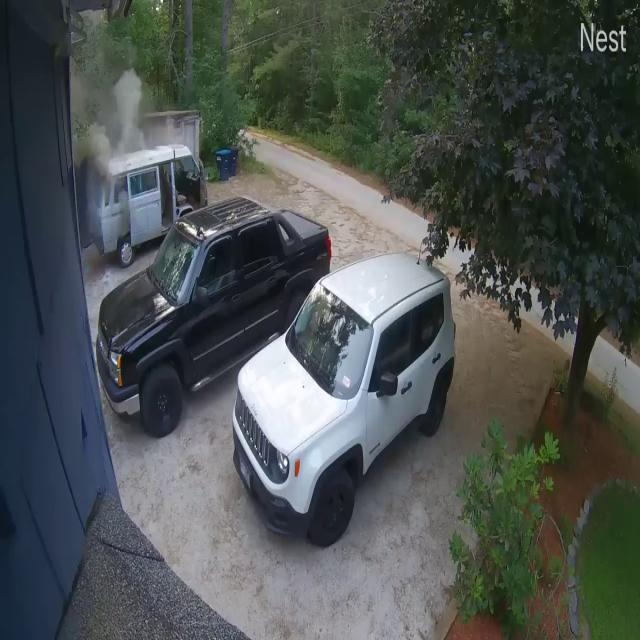Smoke: (84, 56, 146, 235)
